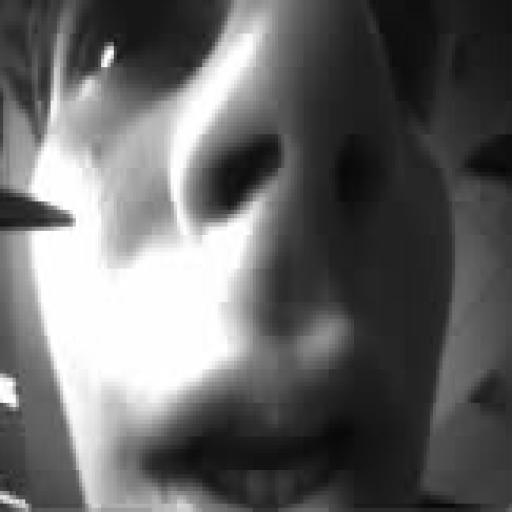human: (32, 0, 451, 511)
